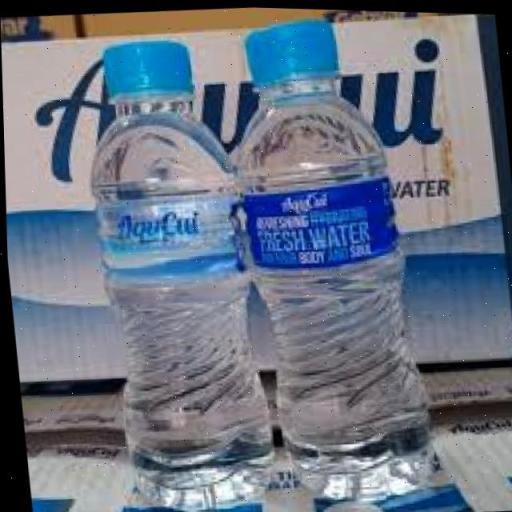plastic: (222, 8, 442, 510), (74, 29, 280, 512)
